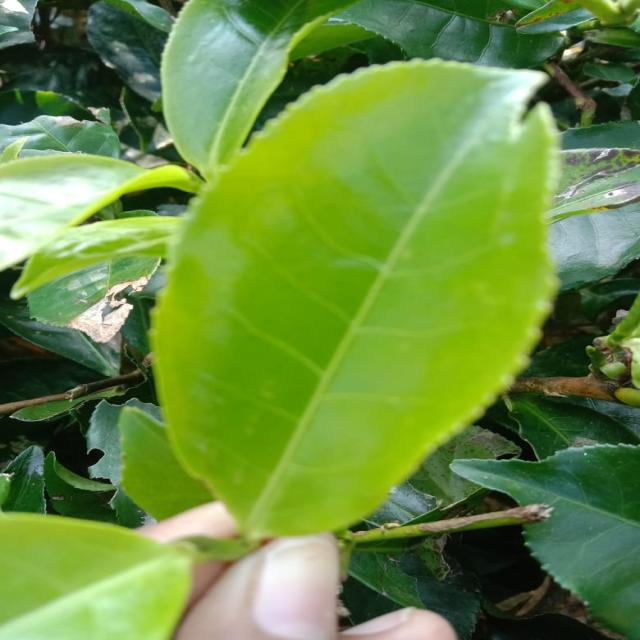Category B 2-4 days: (142, 44, 566, 545)
